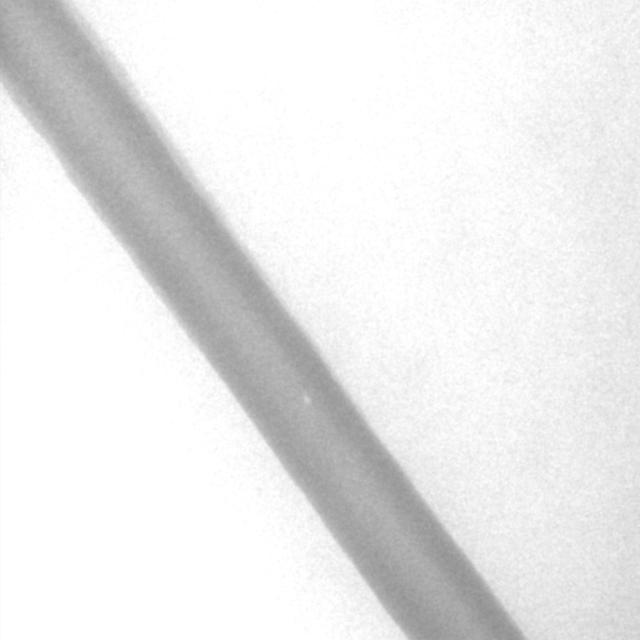air hole: (299, 390, 312, 409)
